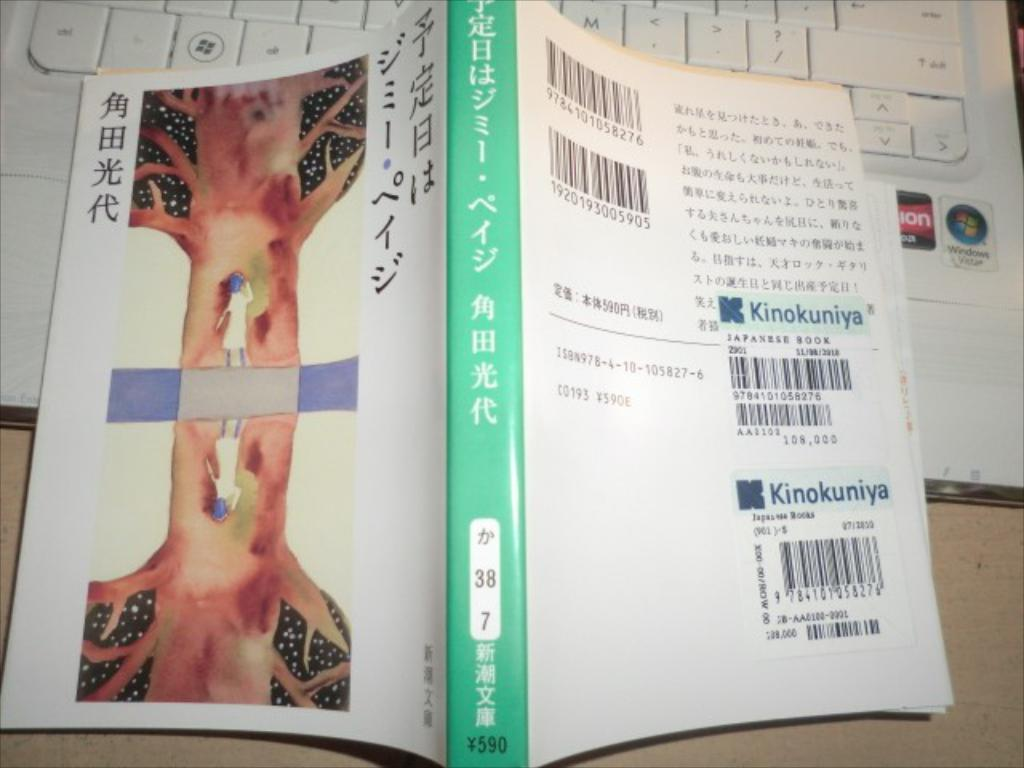book: (67, 0, 960, 768)
